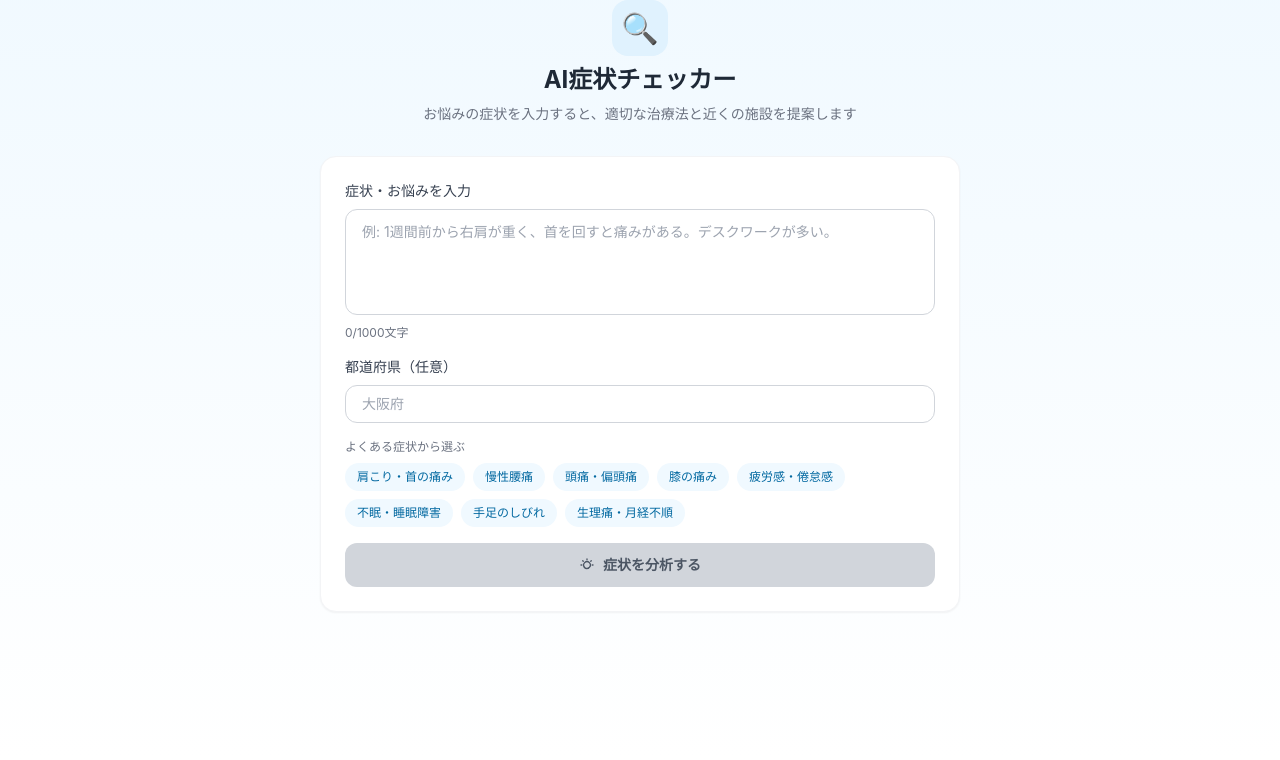
Test: SymptomsPage - 検索リンクのパラメータ整合性 › 都道府県未入力 → keyword のみで area は付与されない
Type "肩こりがつらい" into the text box labelled "症状・お悩みを入力".
click(640, 262); type("肩こりがつらい")  # box [345, 209, 935, 315]
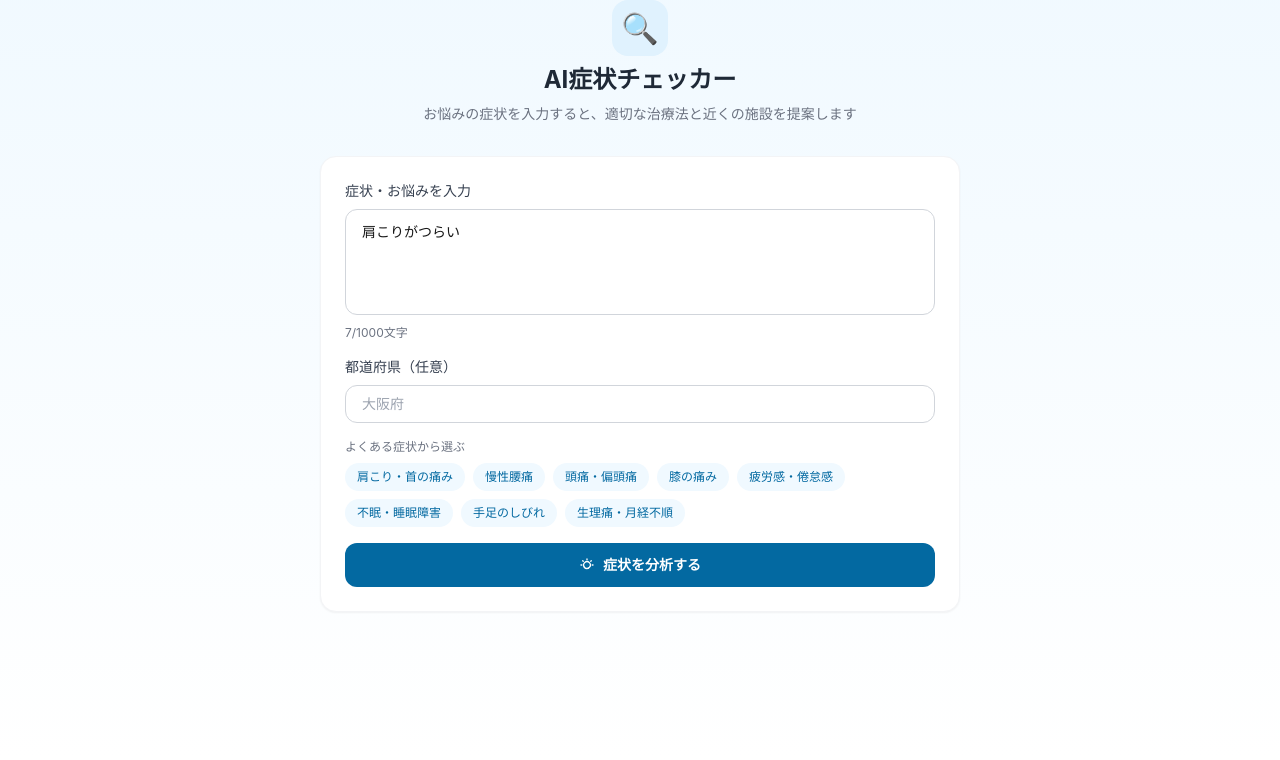
Click the button "症状を分析する".
click(640, 565)  # box [345, 543, 935, 587]
(page scrolled)
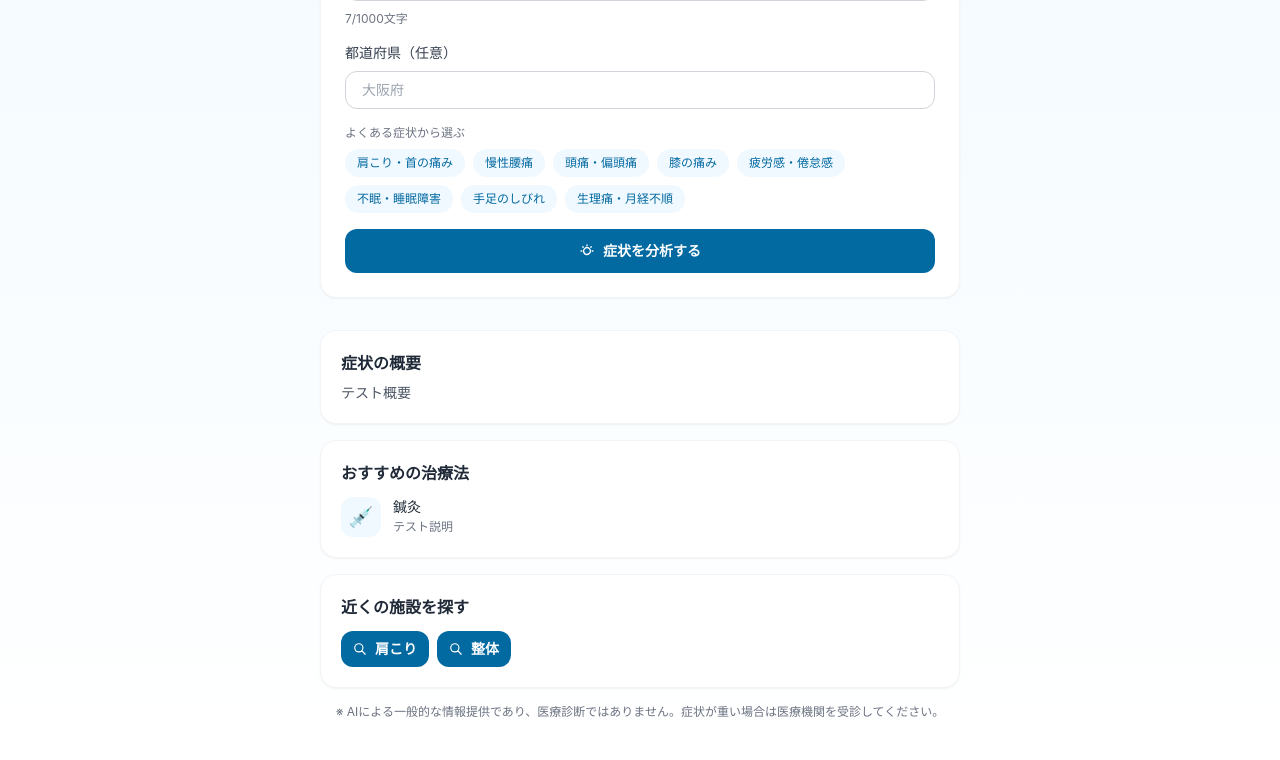
Expected: the link "肩こり" is shown, [341, 631, 429, 667]
